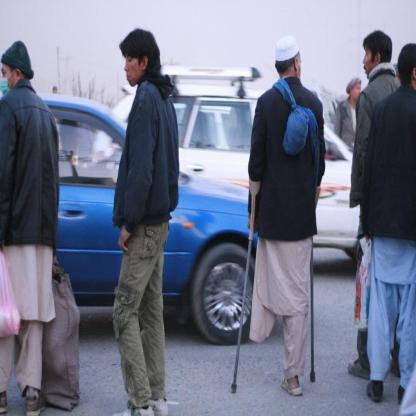face: (125, 49, 143, 86), (2, 65, 17, 94), (363, 46, 376, 79), (64, 125, 74, 145), (295, 52, 303, 76), (353, 85, 362, 101), (54, 89, 58, 95)
